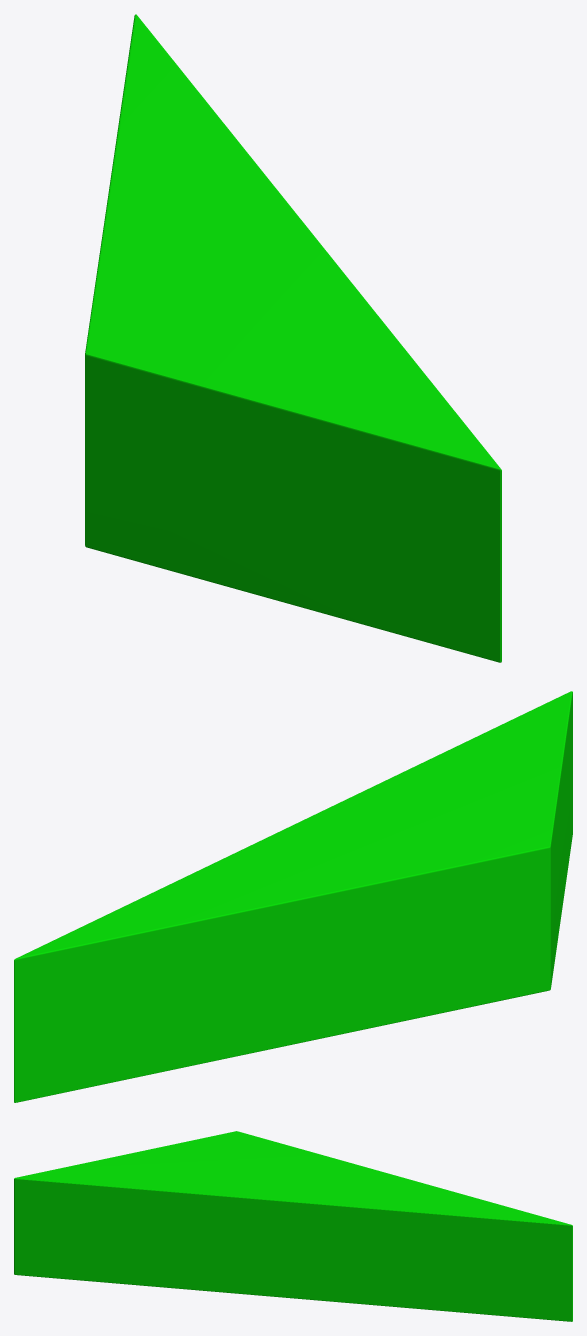
File: Obstacle_01.fbx
3 views of the same model, one above another, from view 1: azimuth 30°, elevation 25°; view 2: azimuth 150°, elevation 25°; view 3: azimuth 270°, elevation 25° (orthographic). The views are drawn at different scales.
Parts seen in each view (by area): view 1: Obstacle_01; view 2: Obstacle_01; view 3: Obstacle_01.
Boxes of the visible parts, left/top/right/bottom form: Obstacle_01: left=85, top=14, right=501, bottom=662; Obstacle_01: left=14, top=691, right=572, bottom=1102; Obstacle_01: left=14, top=1131, right=572, bottom=1321.
Size of the model in its own units: 2.08 by 1 by 5.22.
